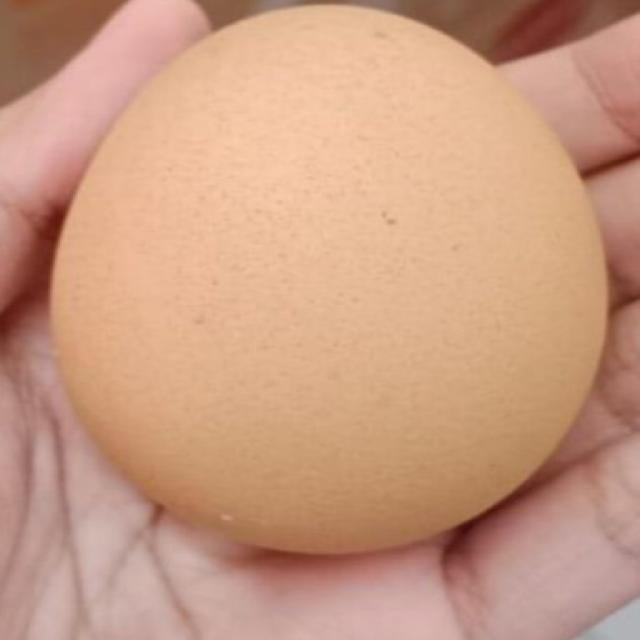fresh: (51, 2, 613, 549)
